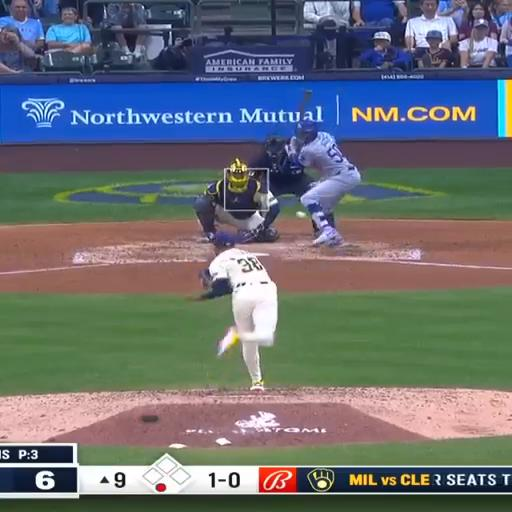bat: (299, 90, 311, 121)
